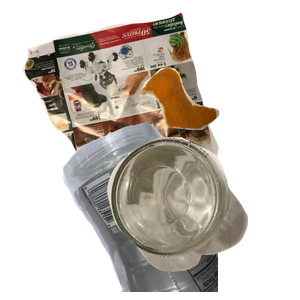glass: (105, 135, 300, 300)
paper: (20, 10, 231, 190)
plastic: (60, 120, 300, 300)
trash: (137, 65, 300, 188)
